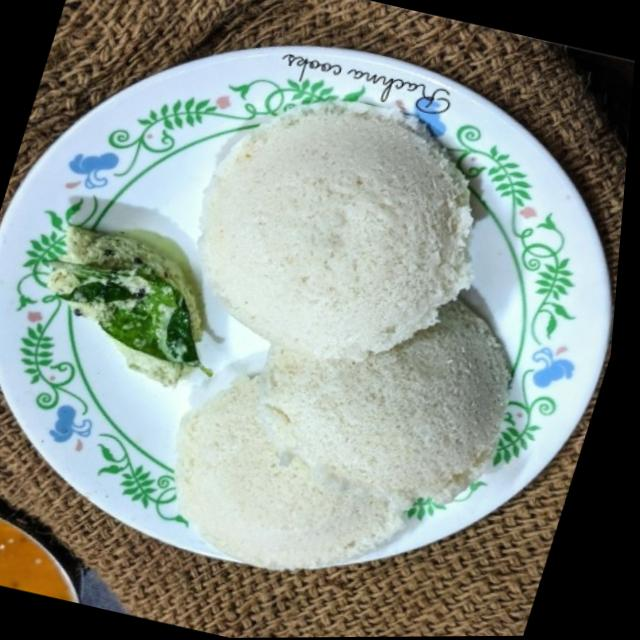IDLI: (175, 107, 510, 570)
